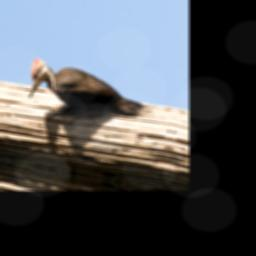Woodpecker: (24, 56, 156, 138)
